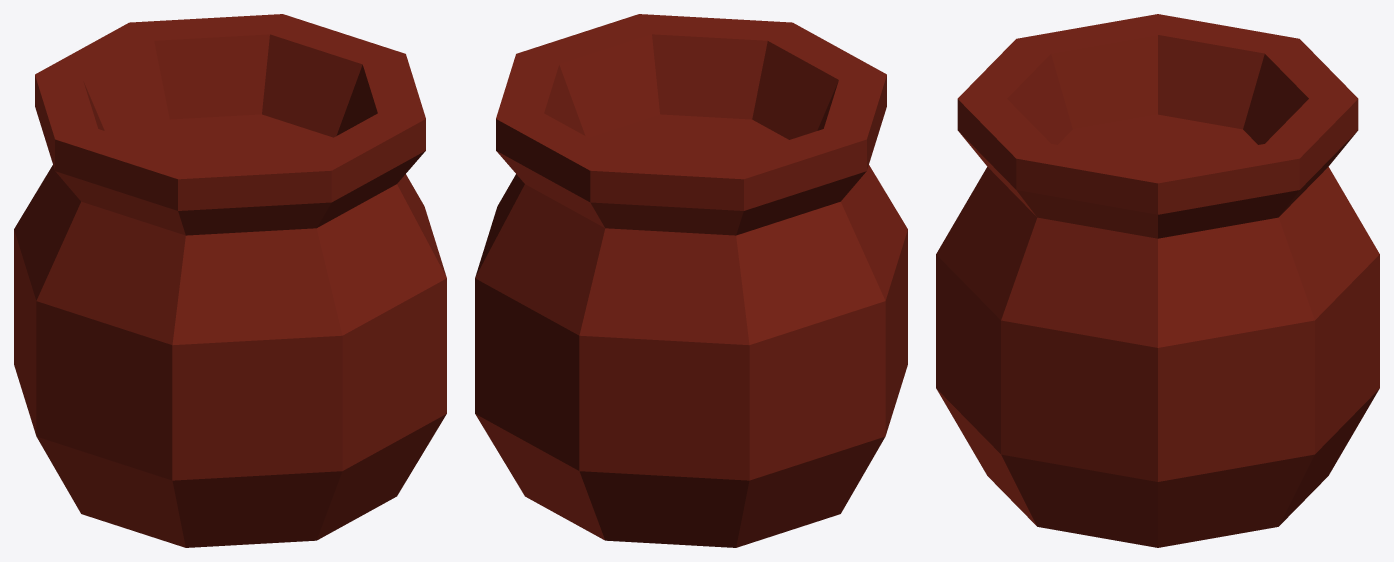
File: pot_1.obj
3 views of the same model, side by side, from view 1: azimuth 30°, elevation 25°; view 2: azimuth 150°, elevation 25°; view 3: azimuth 270°, elevation 25° (orthographic).
Parts seen in each view (by area): view 1: pot_1_Cylinder.007; view 2: pot_1_Cylinder.007; view 3: pot_1_Cylinder.007.
Part boxes in pixels (box(x1,y1,x2,y2)): pot_1_Cylinder.007: box(14, 14, 446, 547); pot_1_Cylinder.007: box(475, 14, 907, 547); pot_1_Cylinder.007: box(936, 14, 1379, 547).
Size of the model in its own units: 0.6096 by 0.5717 by 0.6096.
